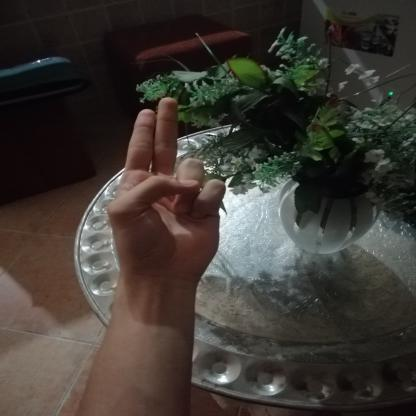TA: (90, 86, 244, 300)
